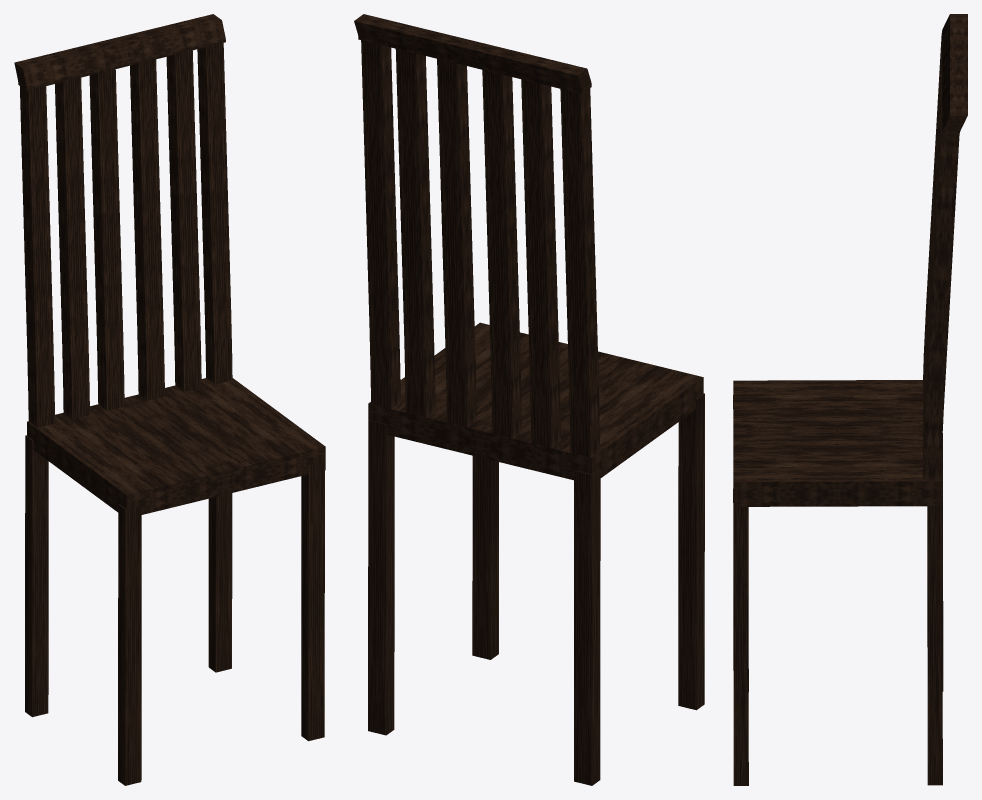
The model's file is chair.glb.
The picture shows the model from 3 angles, left to right: view 1: azimuth 30°, elevation 25°; view 2: azimuth 150°, elevation 25°; view 3: azimuth 270°, elevation 25°; orthographic projection. The views are drawn at different scales.
Visible parts, largest first — view 1: Chair; view 2: Chair; view 3: Chair.
Part boxes in pixels (x1,y1,x2,y2): Chair: (14, 14, 325, 785); Chair: (354, 14, 704, 785); Chair: (733, 14, 967, 785).
Size of the model in its own units: 0.2558 by 0.7828 by 0.2482.
Materials: 1 (1 with a texture image).
